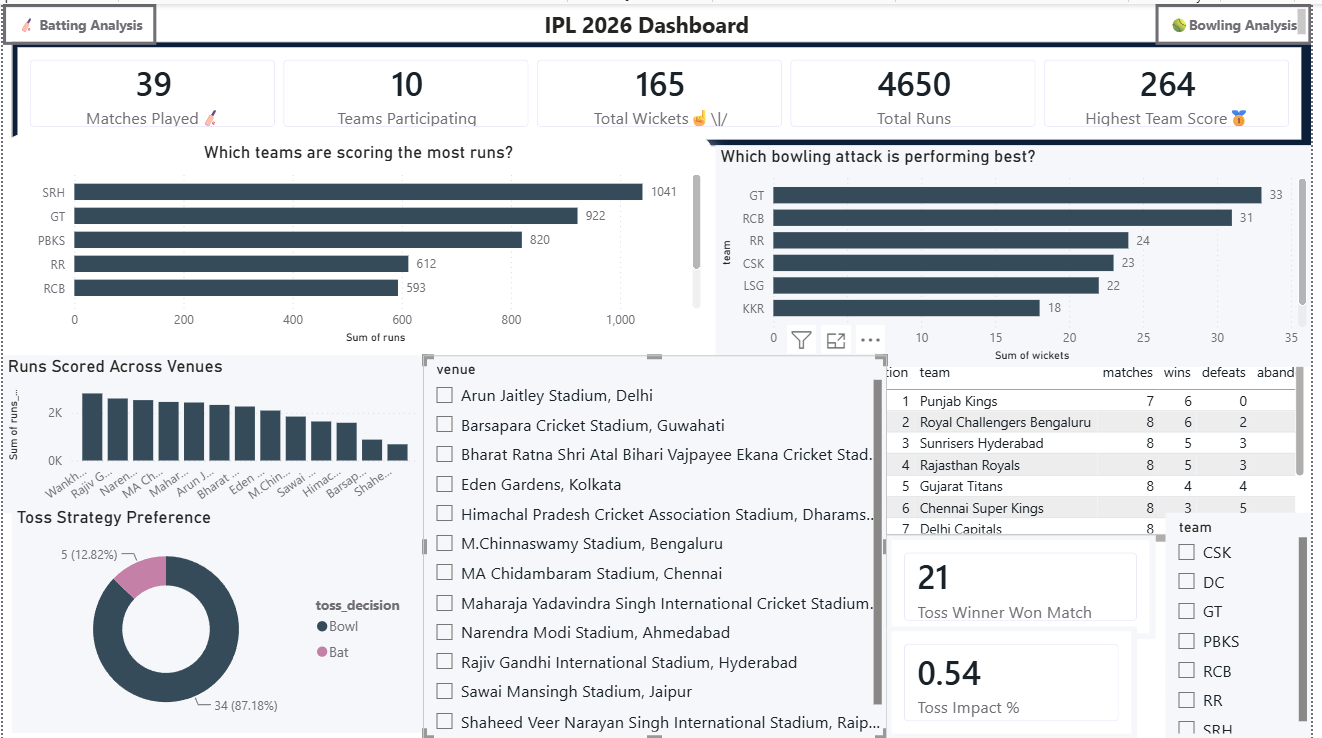

Layout of this report page (visuals, bound fields, positions):
{"tool":"powerbi","page":{"name":"Dashboard","canvas":[1280,720],"ordinal":0},"visuals":[{"type":"cardVisual","fields":{"Data":["_Measures.Total Matches","_Measures.Total Teams","Sum(bowling_stats.wickets)","Sum(batting_stats.runs)","_Measures.Highest Team Score"]},"box":[8.6,36.7,1271.7,102.7],"z":0},{"type":"clusteredBarChart","title":"Which teams are scoring the most runs?","fields":{"Category":["batting_stats.team"],"Y":["Sum(batting_stats.runs)"]},"box":[0,127.2,694.6,216.4],"z":1000},{"type":"tableEx","fields":{"Values":["points_table.position","points_table.team","points_table.matches","points_table.wins","points_table.defeats","points_table.abandoned","points_table.points","points_table.nrr"]},"box":[826.6,343.6,451.2,188.3],"z":2000},{"type":"clusteredBarChart","title":"Which bowling attack is performing best?","fields":{"Category":["bowling_stats.team"],"Y":["Sum(bowling_stats.wickets)"]},"box":[697.2,138.5,583.2,216.8],"z":3000},{"type":"clusteredColumnChart","title":"Runs Scored Across Venues","fields":{"Category":["deliveries.venue"],"Y":["Sum(deliveries.runs_of_bat)"]},"box":[0,344.1,411.2,154.2],"z":4000},{"type":"donutChart","title":"Toss Strategy Preference","fields":{"Category":["matches.toss_decision"],"Y":["_Measures.Total Matches"]},"box":[8.9,491.6,402.2,221.2],"z":5000},{"type":"slicer","fields":{"Values":["batting_stats.team"]},"box":[1137.2,497.7,143.1,221.3],"z":6000},{"type":"slicer","fields":{"Values":["deliveries.venue"]},"box":[411.2,344.1,453.6,375.4],"z":7000},{"type":"textbox","box":[0,0,1279.1,36.7],"z":8000},{"type":"cardVisual","fields":{"Data":["_Measures.Toss Winner Won Match"]},"box":[864.5,519.7,262.9,101.5],"z":9000},{"type":"cardVisual","fields":{"Data":["_Measures.Toss Impact %"]},"box":[864.5,609,244.6,110.1],"z":10000},{"type":"actionButton","box":[0,0,150,40],"z":10001},{"type":"actionButton","box":[1127.5,0,152.5,40],"z":10002}]}

Visuals, with their boxes in screenshot pixels (x1, y1, x2, y2), scaled from the page's 1280x720 canvas onto the 1322x738 screenshot:
cardVisual - _Measures.Total Matches x _Measures.Total Teams: locate(9, 38, 1321, 143)
"Which teams are scoring the most runs?" clusteredBarChart: locate(0, 130, 717, 352)
tableEx - points_table.position x points_table.team: locate(854, 352, 1320, 545)
"Which bowling attack is performing best?" clusteredBarChart: locate(720, 142, 1321, 364)
"Runs Scored Across Venues" clusteredColumnChart: locate(0, 353, 425, 511)
"Toss Strategy Preference" donutChart: locate(9, 504, 425, 731)
slicer - batting_stats.team: locate(1175, 510, 1321, 737)
slicer - deliveries.venue: locate(425, 353, 893, 737)
textbox: locate(0, 0, 1321, 38)
cardVisual - _Measures.Toss Winner Won Match: locate(893, 533, 1164, 637)
cardVisual - _Measures.Toss Impact %: locate(893, 624, 1145, 737)
actionButton: locate(0, 0, 155, 41)
actionButton: locate(1164, 0, 1321, 41)
